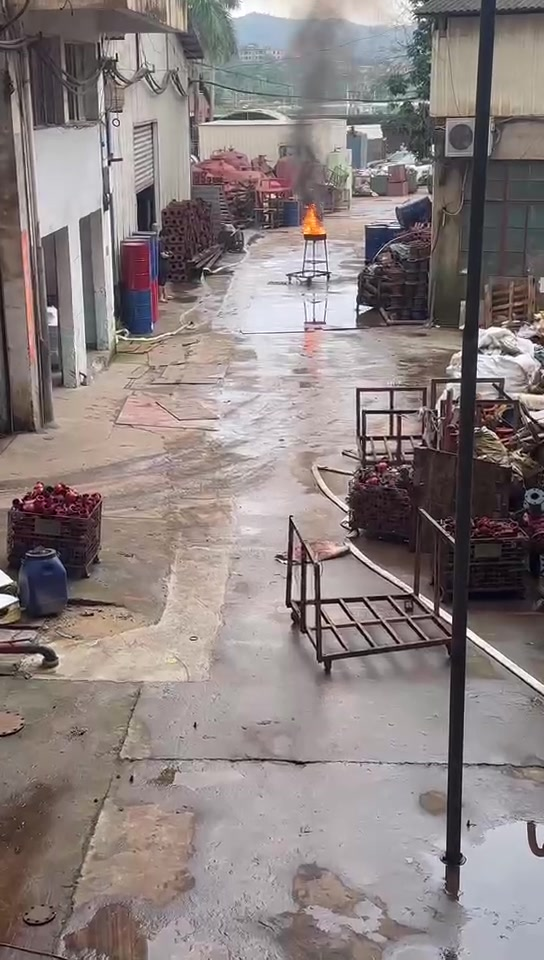fire: (299, 202, 324, 233)
